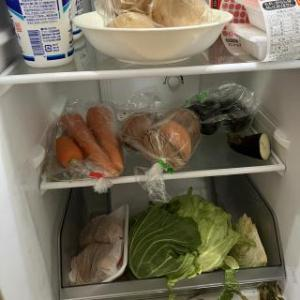cabbage: (126, 189, 234, 287), (230, 211, 268, 271)
carrot: (62, 110, 120, 176), (86, 106, 126, 172), (54, 136, 84, 172)
eggplant: (212, 97, 254, 131), (228, 131, 272, 162), (188, 102, 222, 136)
onion: (146, 120, 192, 170), (120, 110, 162, 154), (160, 107, 200, 147)
